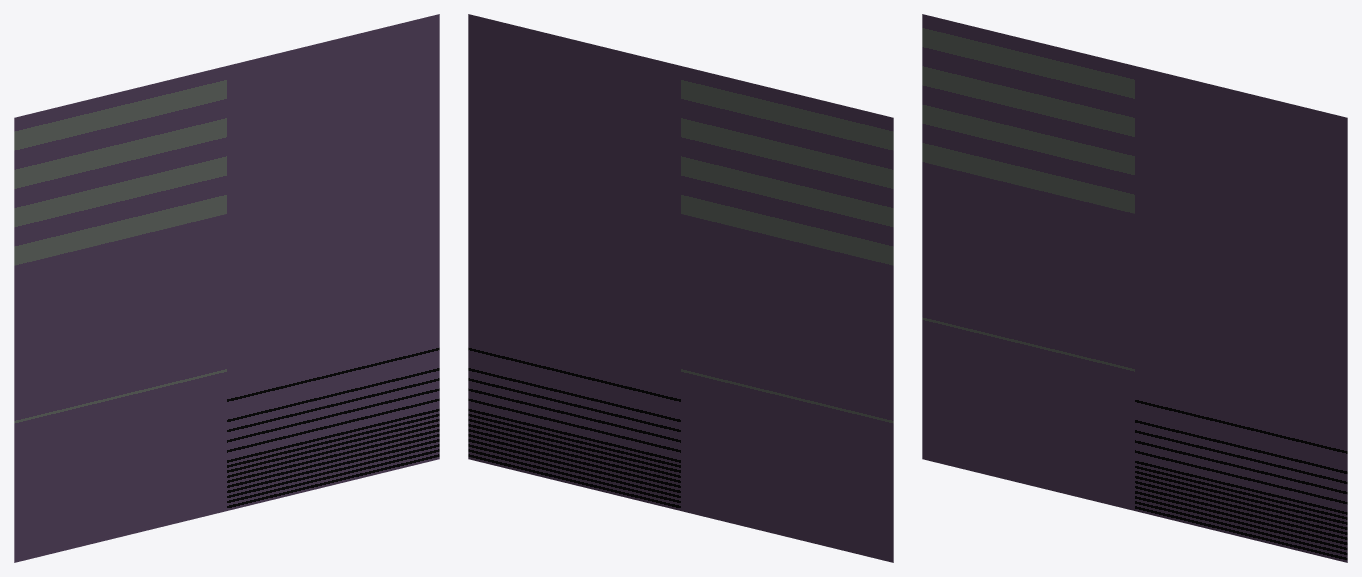
Rendered from wall-half-b.glb.
3 views of the same model, side by side, from view 1: azimuth 30°, elevation 25°; view 2: azimuth 150°, elevation 25°; view 3: azimuth 330°, elevation 25° (orthographic).
Parts seen in each view (by area): view 1: wall-large-blocks-1000.016; view 2: wall-large-blocks-1000.016; view 3: wall-large-blocks-1000.016.
Boxes of the visible parts, box(x1,y1,x2,y2) form: wall-large-blocks-1000.016: box(14, 14, 439, 562); wall-large-blocks-1000.016: box(468, 14, 893, 562); wall-large-blocks-1000.016: box(922, 14, 1347, 562).
Size of the model in its own units: 2 by 2 by 4.44e-16.
1 material, 1 textured.
